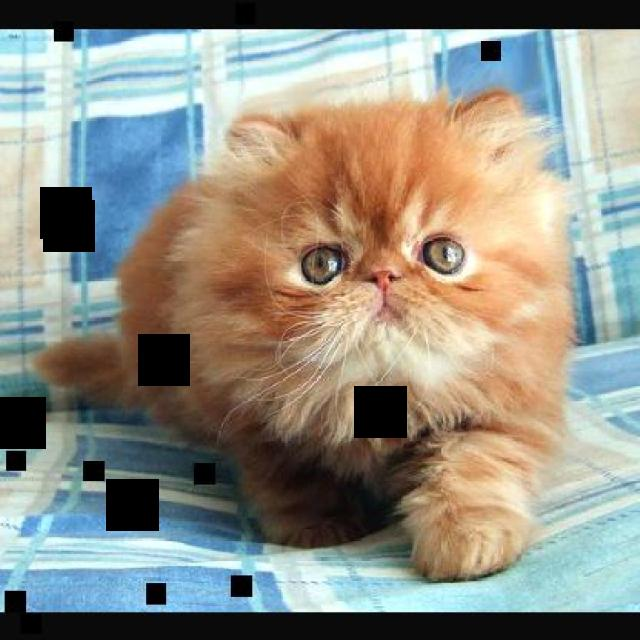unauthorized: (31, 83, 578, 582)
